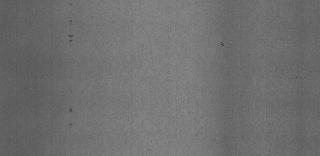oil spot: (67, 18, 77, 44), (66, 103, 76, 129), (68, 2, 74, 6)
